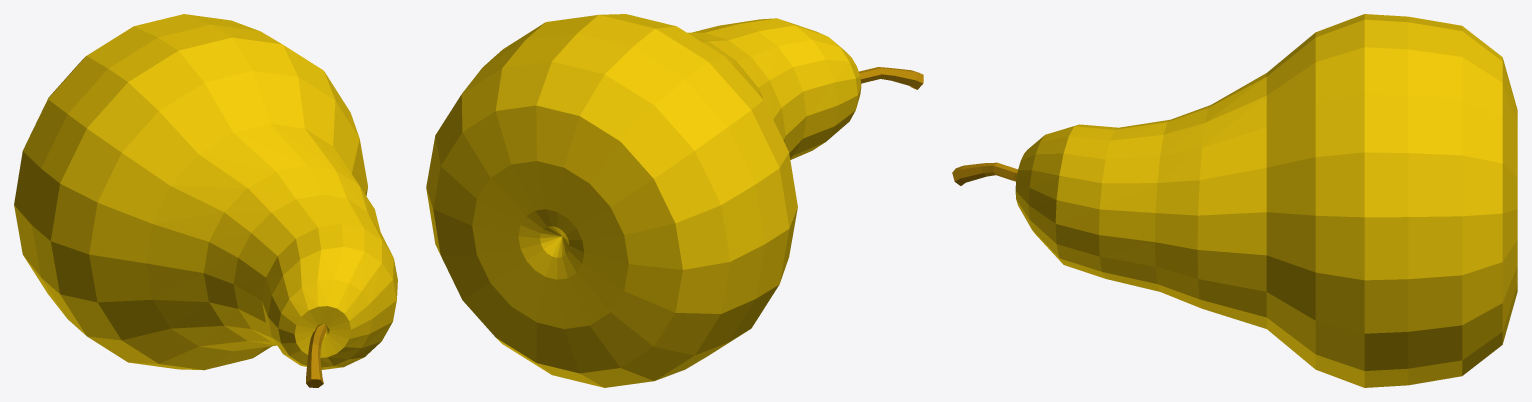
Rendered from PEAR.glb.
The picture shows the model from 3 angles, left to right: view 1: azimuth 30°, elevation 25°; view 2: azimuth 150°, elevation 25°; view 3: azimuth 270°, elevation 25°; orthographic projection. The views are drawn at different scales.
Visible parts, largest first — view 1: _0; view 2: _0; view 3: _0.
Boxes of the visible parts, box(x1,y1,x2,y2) form: _0: box(14, 14, 397, 387); _0: box(426, 14, 923, 387); _0: box(952, 14, 1517, 387).
Size of the model in its own units: 0.6689 by 0.6588 by 1.01.
